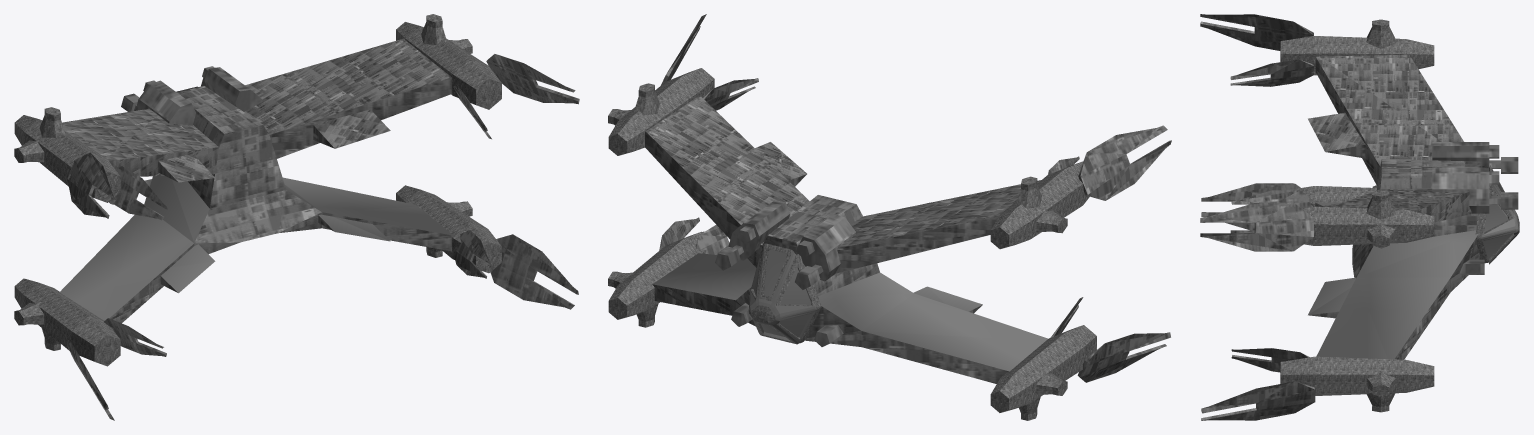
The model's file is Starfury.fbx.
The picture shows the model from 3 angles, left to right: view 1: azimuth 30°, elevation 25°; view 2: azimuth 150°, elevation 25°; view 3: azimuth 270°, elevation 25°; orthographic projection. The views are drawn at different scales.
Parts seen in each view (by area): view 1: RAD_MESH3, RAD_MESH0, RAD_MESH7, RAD_MESH1, RAD_MESH4, RAD_MESH5, RAD_MESH6; view 2: RAD_MESH0, RAD_MESH1, RAD_MESH3, RAD_MESH7, RAD_MESH4, RAD_MESH5, RAD_MESH6, RAD_MESH2; view 3: RAD_MESH0, RAD_MESH4, RAD_MESH1, RAD_MESH3, RAD_MESH5, RAD_MESH7, RAD_MESH6, RAD_MESH2.
Part boxes in pixels (x1=…): RAD_MESH3: x1=62, y1=38, x2=451, y2=182; RAD_MESH0: x1=14, y1=14, x2=501, y2=366; RAD_MESH7: x1=109, y1=77, x2=453, y2=323; RAD_MESH1: x1=60, y1=176, x2=453, y2=320; RAD_MESH4: x1=67, y1=54, x2=579, y2=420; RAD_MESH5: x1=121, y1=66, x2=262, y2=186; RAD_MESH6: x1=158, y1=86, x2=334, y2=292; RAD_MESH0: x1=608, y1=68, x2=1096, y2=420; RAD_MESH1: x1=653, y1=244, x2=1047, y2=371; RAD_MESH3: x1=645, y1=95, x2=1041, y2=248; RAD_MESH7: x1=645, y1=131, x2=1008, y2=383; RAD_MESH4: x1=659, y1=14, x2=1171, y2=382; RAD_MESH5: x1=715, y1=200, x2=856, y2=346; RAD_MESH6: x1=768, y1=174, x2=982, y2=313; RAD_MESH2: x1=754, y1=249, x2=810, y2=337; RAD_MESH0: x1=1280, y1=19, x2=1519, y2=412; RAD_MESH4: x1=1200, y1=14, x2=1315, y2=420; RAD_MESH1: x1=1308, y1=167, x2=1519, y2=359; RAD_MESH3: x1=1308, y1=54, x2=1468, y2=211; RAD_MESH5: x1=1432, y1=142, x2=1518, y2=274; RAD_MESH7: x1=1315, y1=57, x2=1481, y2=359; RAD_MESH6: x1=1309, y1=144, x2=1481, y2=318; RAD_MESH2: x1=1483, y1=184, x2=1512, y2=258.
Bounding box in the file's own units: 141 × 67.6 × 89.95.
Materials: 1 (1 with a texture image).
